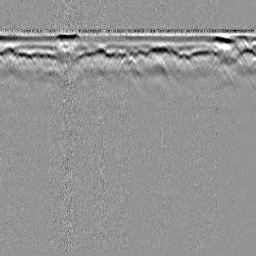cavity: (116, 55, 140, 76)
